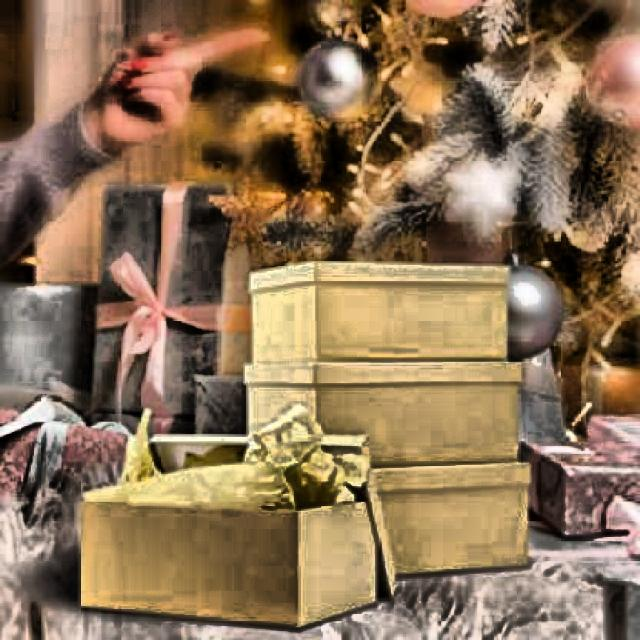Cardbox: (233, 246, 595, 627), (5, 425, 388, 634)
